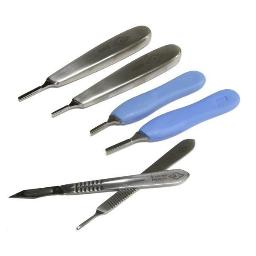scalpel: (8, 168, 190, 200)
